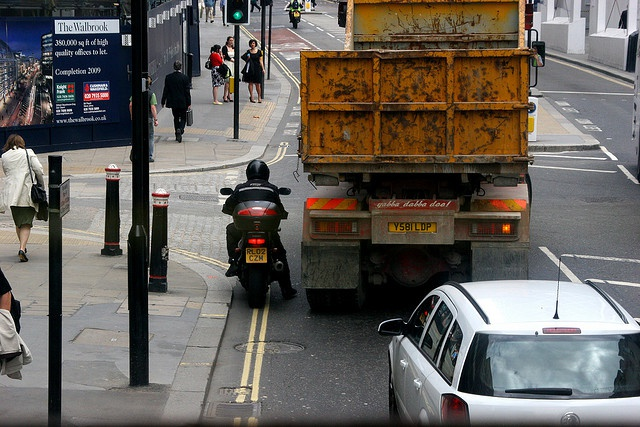non-vehicle: (225, 199, 297, 309), (288, 10, 301, 29)
